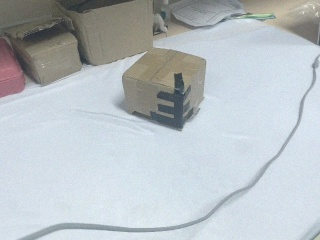box: (123, 49, 206, 130), (56, 1, 153, 65), (9, 13, 87, 89)
